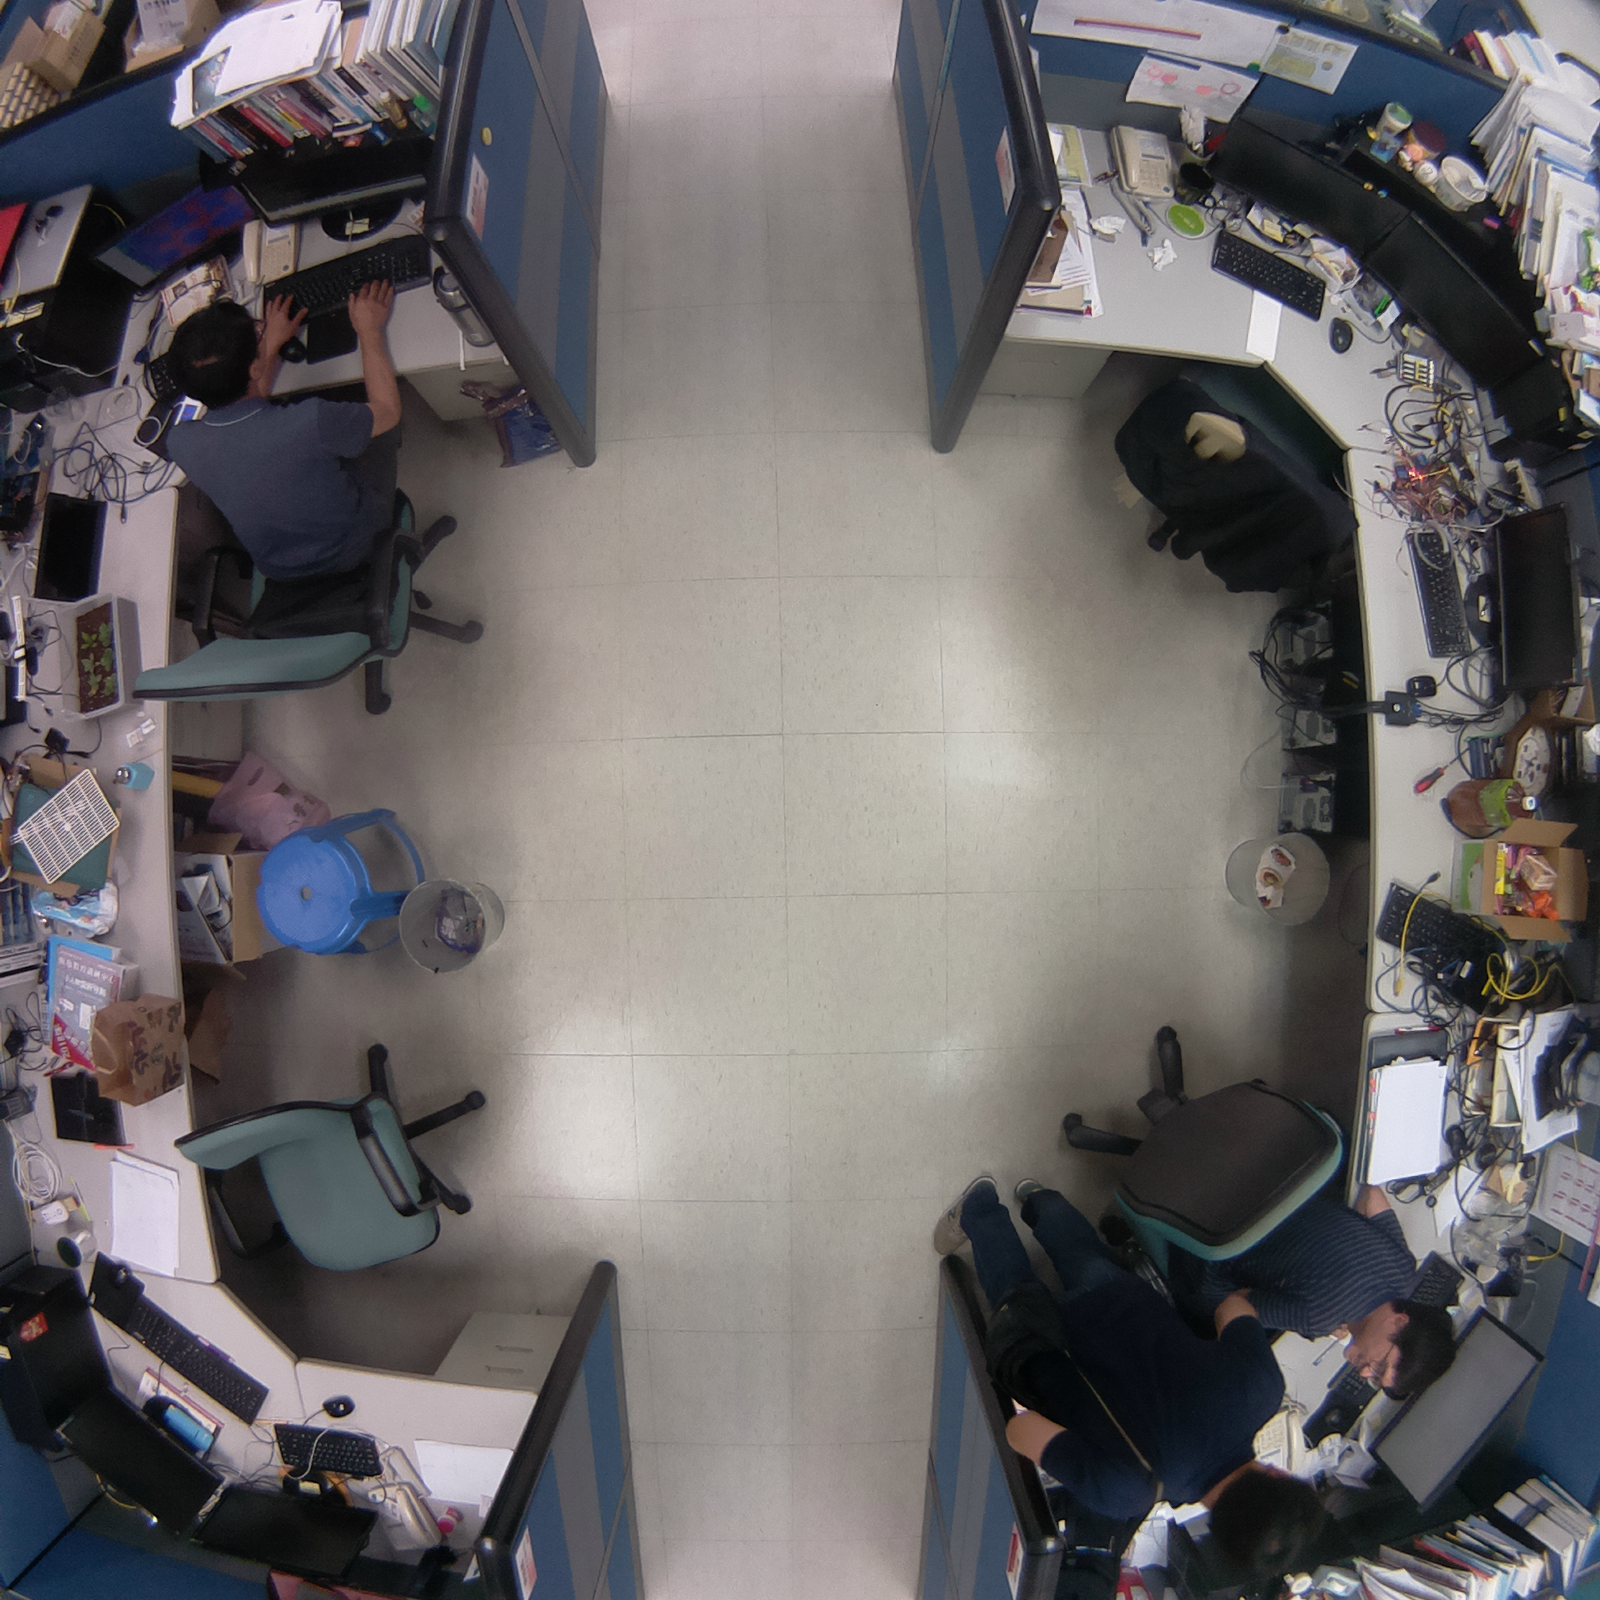chair: (160, 1024, 517, 1299), (1096, 337, 1376, 614)
head: (1199, 1467, 1330, 1584), (1343, 1295, 1464, 1407), (160, 303, 270, 401)
sitting: (122, 255, 499, 734), (1045, 1009, 1463, 1411)
standing: (927, 1160, 1339, 1600)
